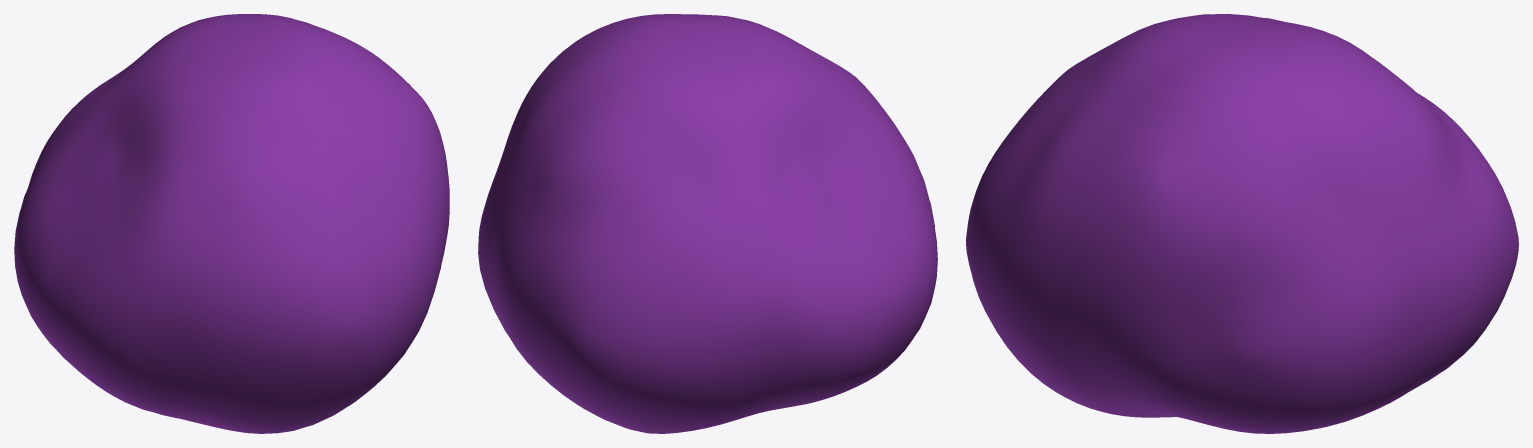
The model's file is pedra grande roxa.fbx.
The picture shows the model from 3 angles, left to right: view 1: azimuth 30°, elevation 25°; view 2: azimuth 150°, elevation 25°; view 3: azimuth 270°, elevation 25°; orthographic projection. The views are drawn at different scales.
Visible parts, largest first — view 1: rock.001; view 2: rock.001; view 3: rock.001.
Boxes of the visible parts, <box> form: rock.001: <box>14,14,449,433</box>; rock.001: <box>478,14,937,433</box>; rock.001: <box>966,14,1518,433</box>.
Bounding box in the file's own units: 426 × 376 × 485.
